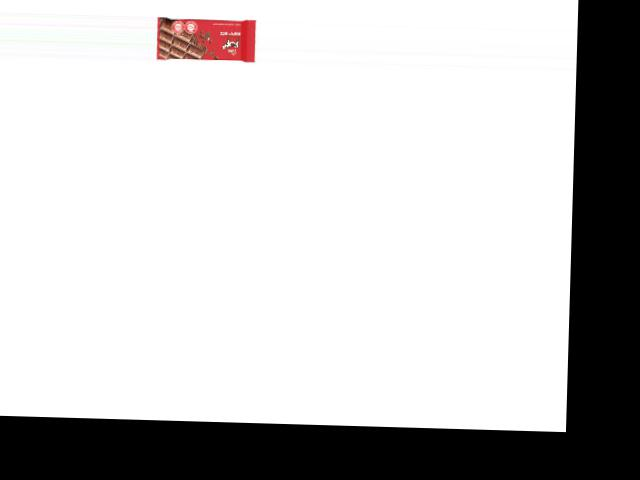chocolate: (156, 16, 257, 62)
